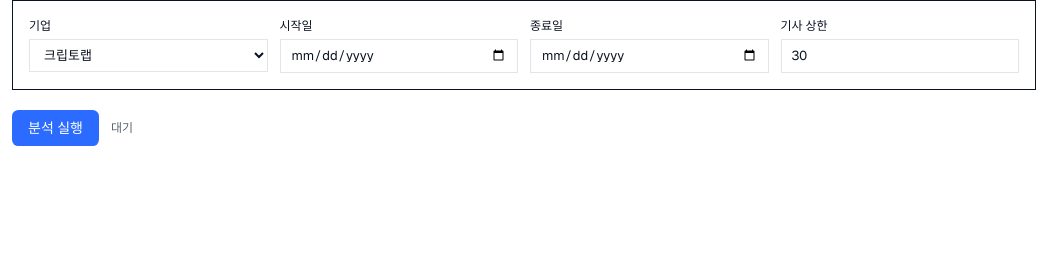
Test case: AnalysisRunner › names the step it is on rather than showing a bare spinner
Step 1. Click the button "분석 실행" → (55, 128), box [12,110,99,146]
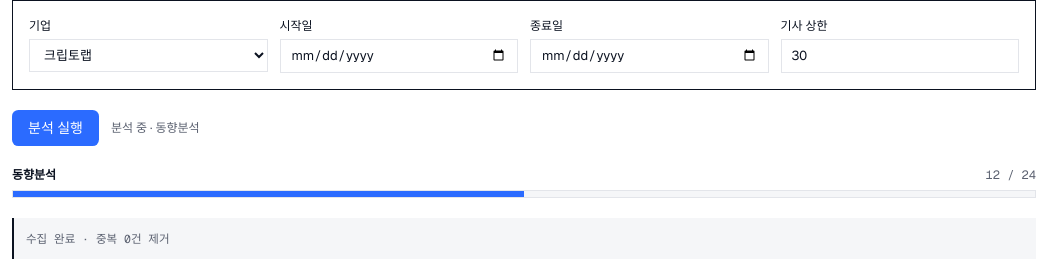
Check: the text "동향분석" is shown, box [12,166,56,184]
Check: the text "12 / 24" is shown, box [986,166,1036,184]
